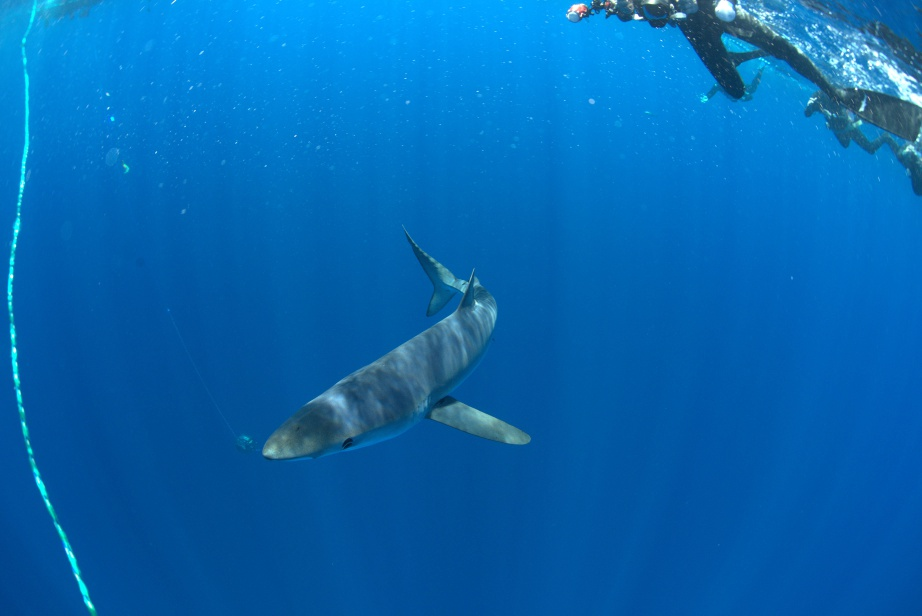Azul: (225, 227, 541, 487)
